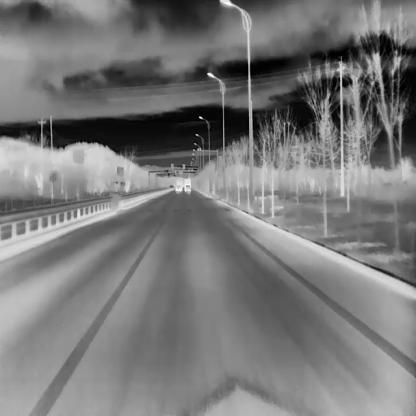car: (184, 179, 190, 189), (176, 180, 182, 190), (175, 184, 181, 191), (184, 184, 190, 191)
